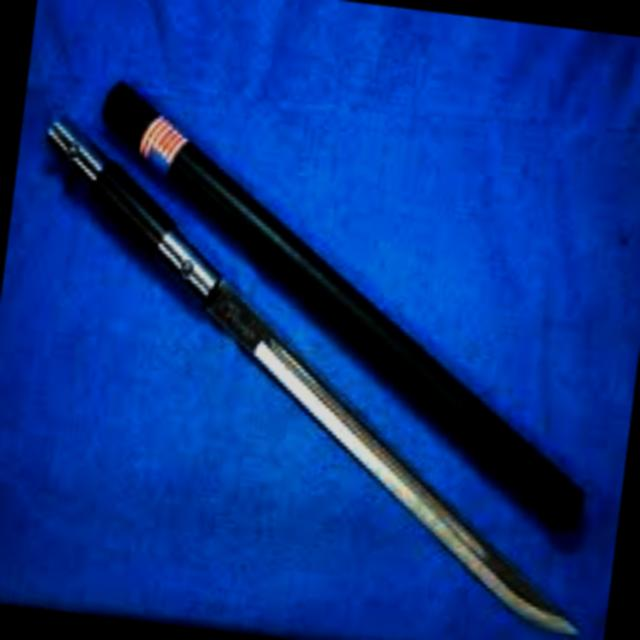long sword: (0, 115, 636, 640)
